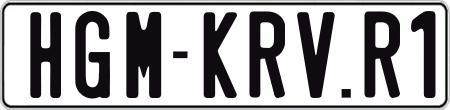1: (411, 9, 432, 97)
G: (75, 9, 111, 97)
H: (28, 9, 60, 101)
K: (203, 11, 241, 101)
M: (124, 11, 165, 103)
R: (248, 11, 289, 99), (365, 8, 402, 95)
V: (296, 9, 335, 95)
